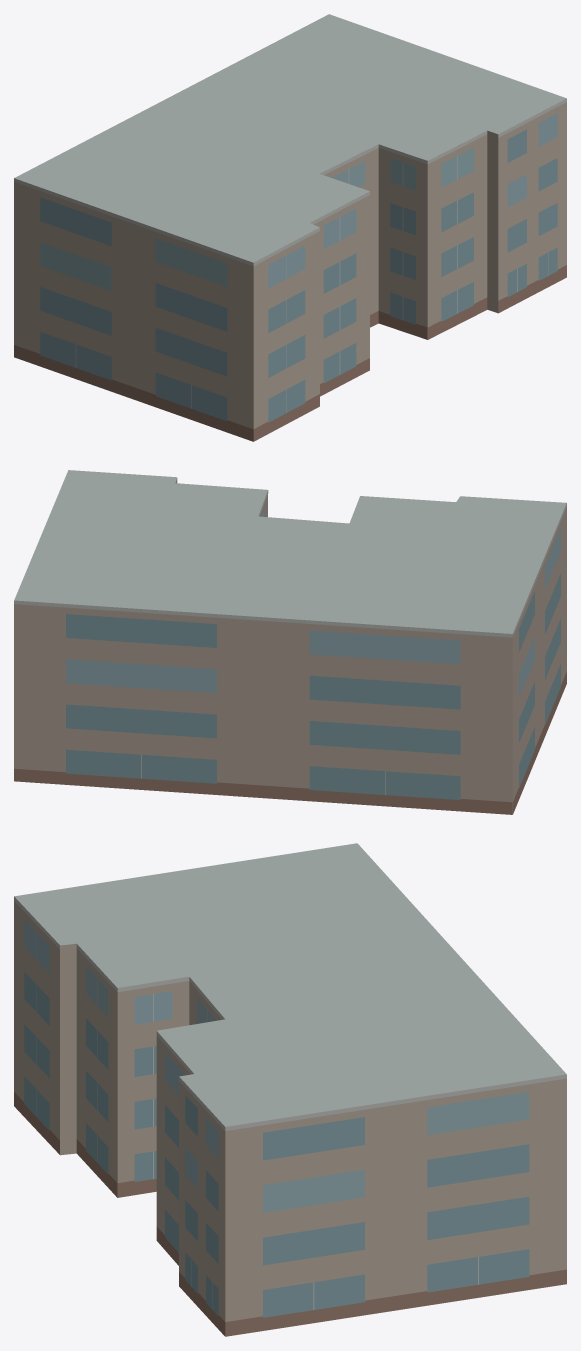
File: survey-upis-32853622.glb
3 renders of one model, top to bottom at view 1: azimuth 30°, elevation 25°; view 2: azimuth 150°, elevation 25°; view 3: azimuth 270°, elevation 25°, orthographic. The views are drawn at different scales.
Parts seen in each view (by area): view 1: survey-upis-32853622.tmp; view 2: survey-upis-32853622.tmp; view 3: survey-upis-32853622.tmp.
Part boxes in pixels (x1,y1,x2,y2): survey-upis-32853622.tmp: (14,14,566,441); survey-upis-32853622.tmp: (14,470,566,814); survey-upis-32853622.tmp: (14,843,566,1336).
Bounding box in the file's own units: 35.4 × 12.2 × 29.14.
